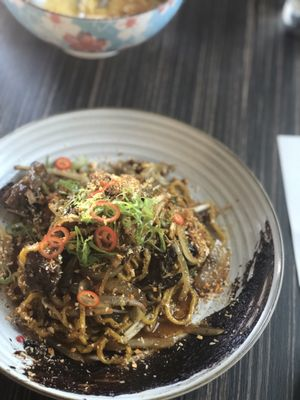sushi: (1, 107, 284, 399), (2, 0, 187, 60)
